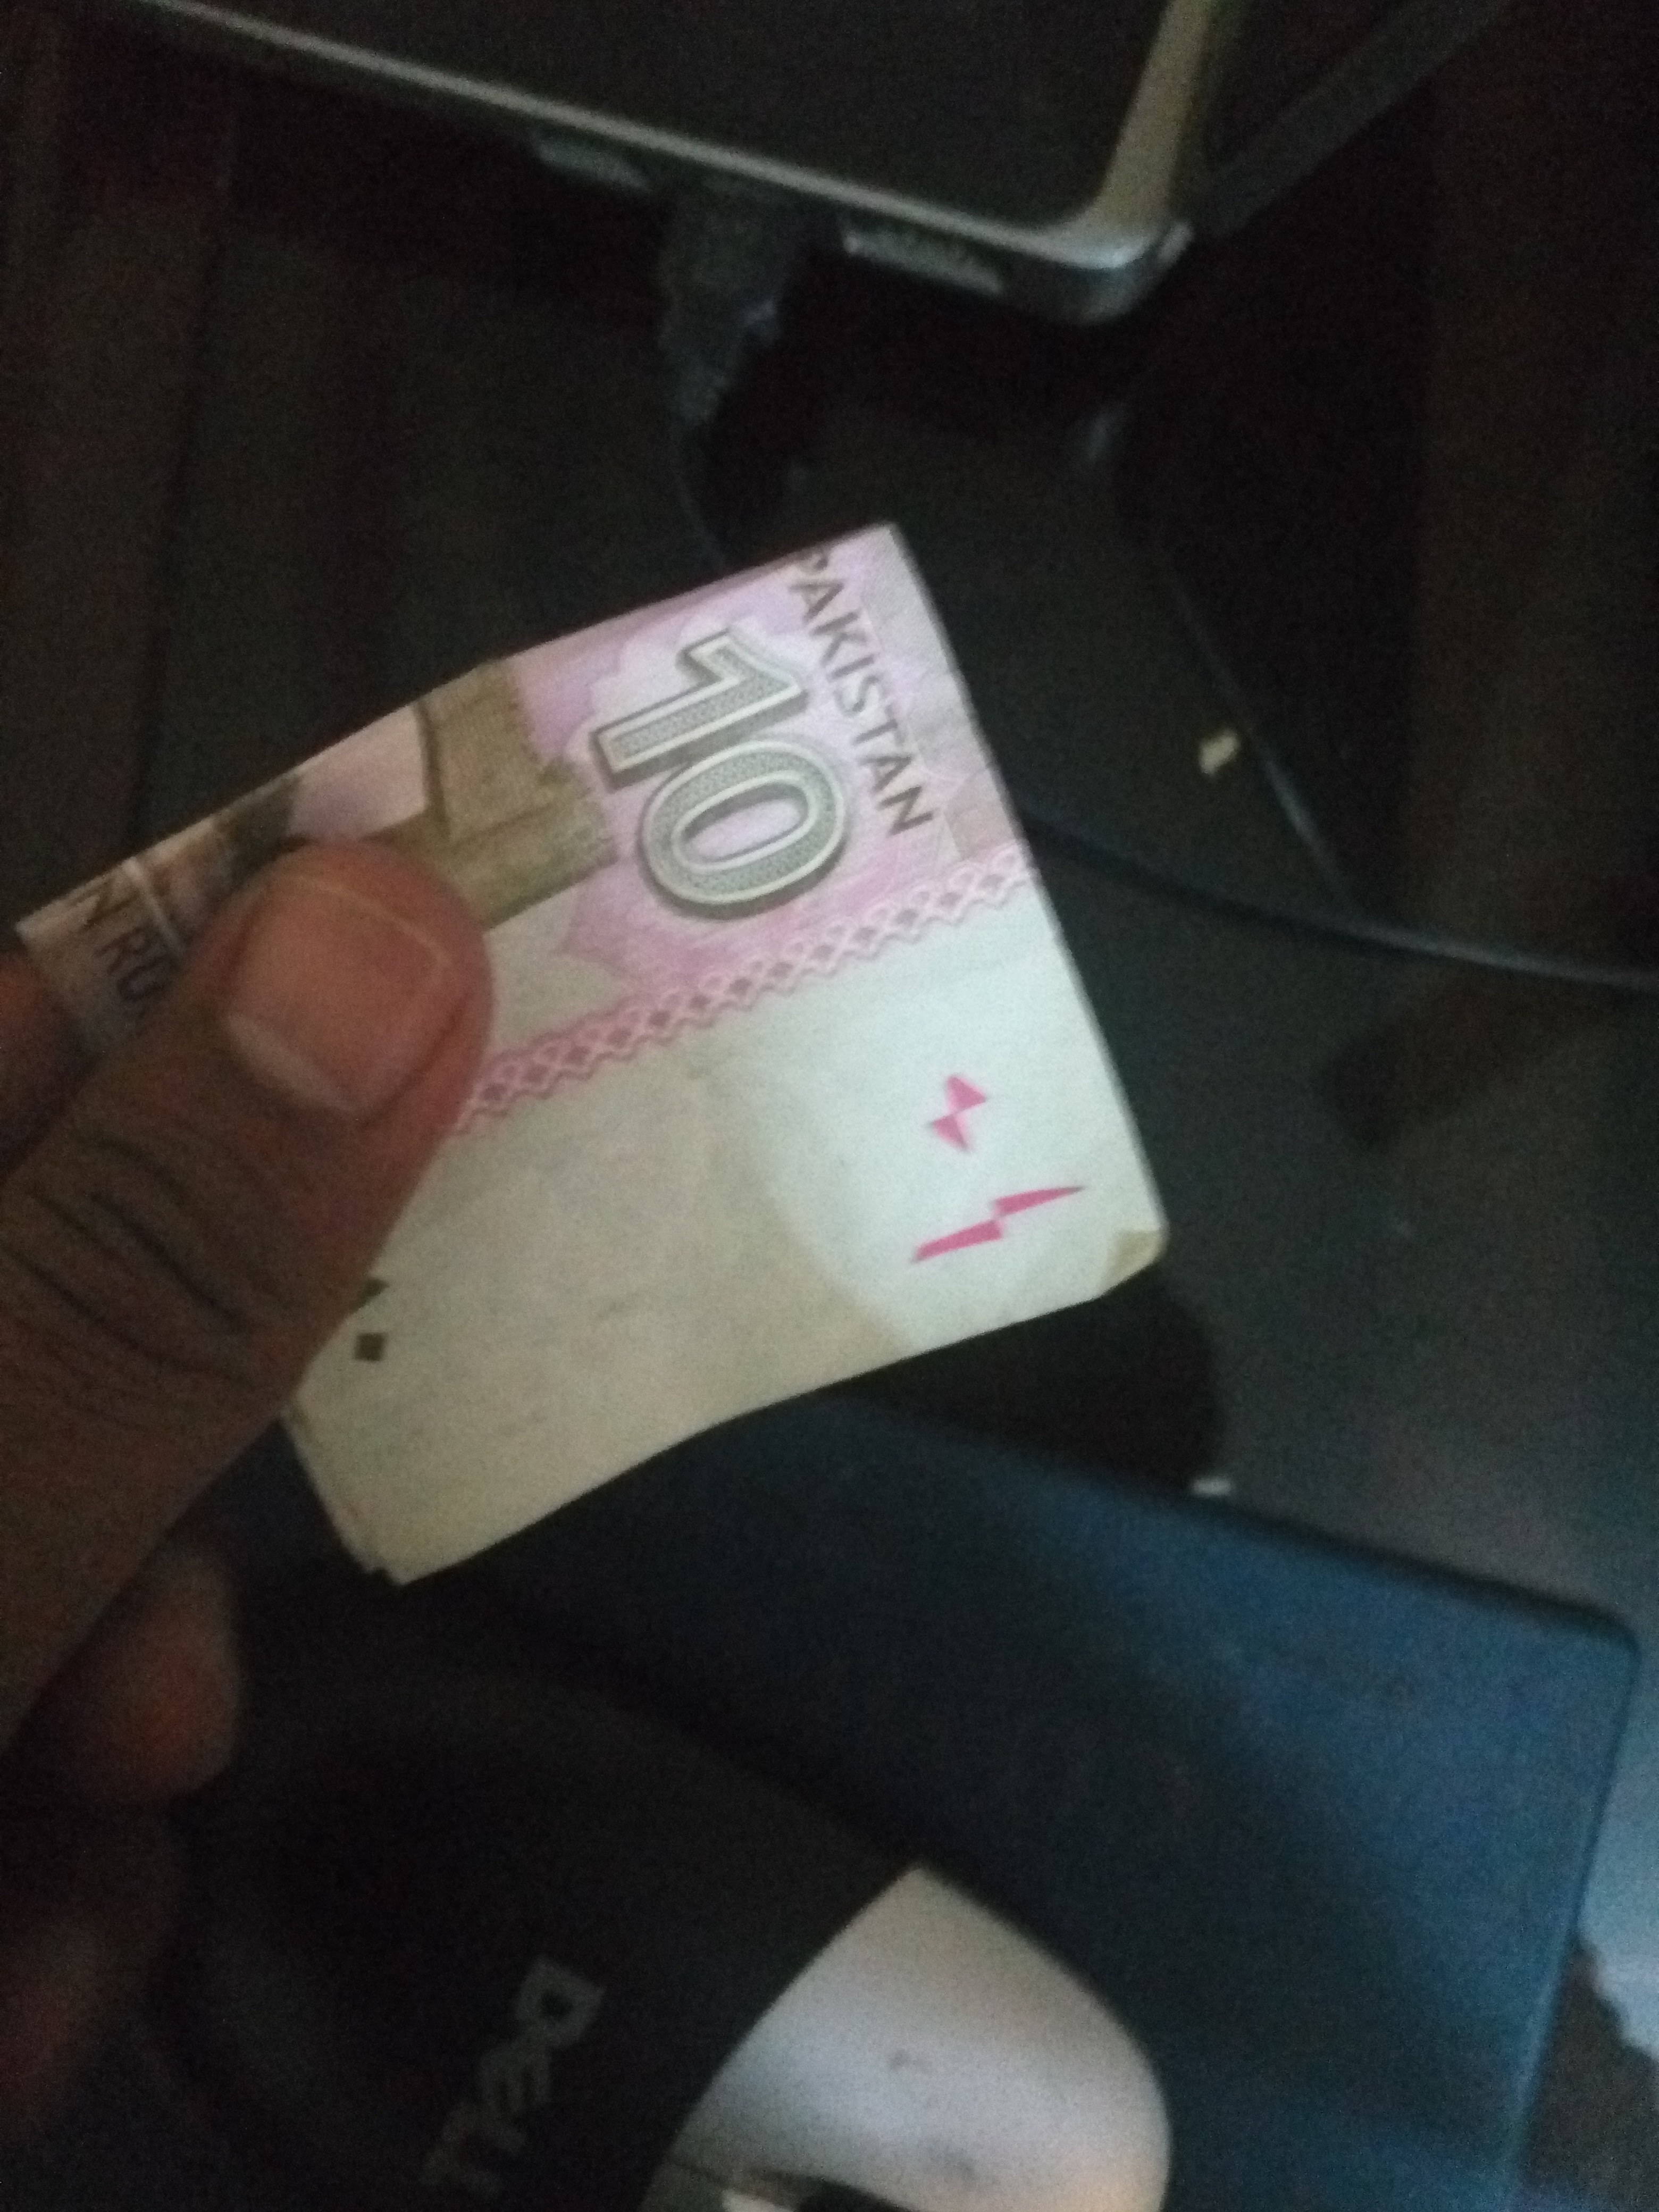10 rupee: (30, 451, 1150, 1698)
